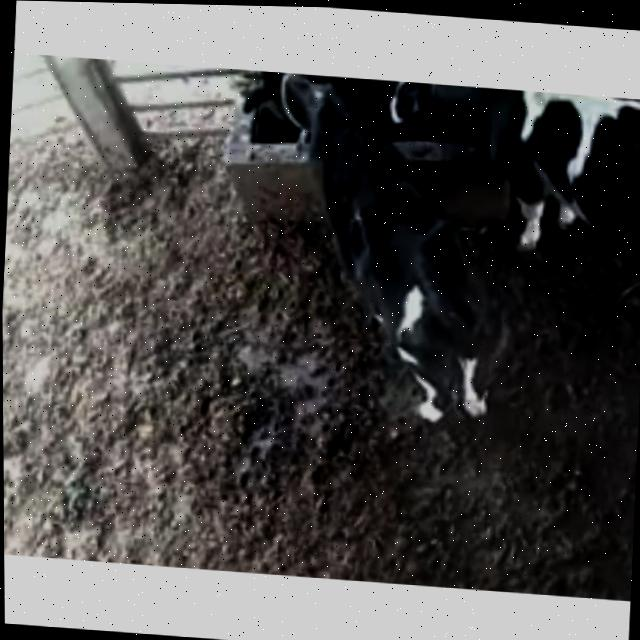drink: (223, 69, 383, 210), (382, 81, 532, 167)
